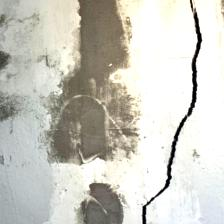Medium: (134, 3, 210, 222)
